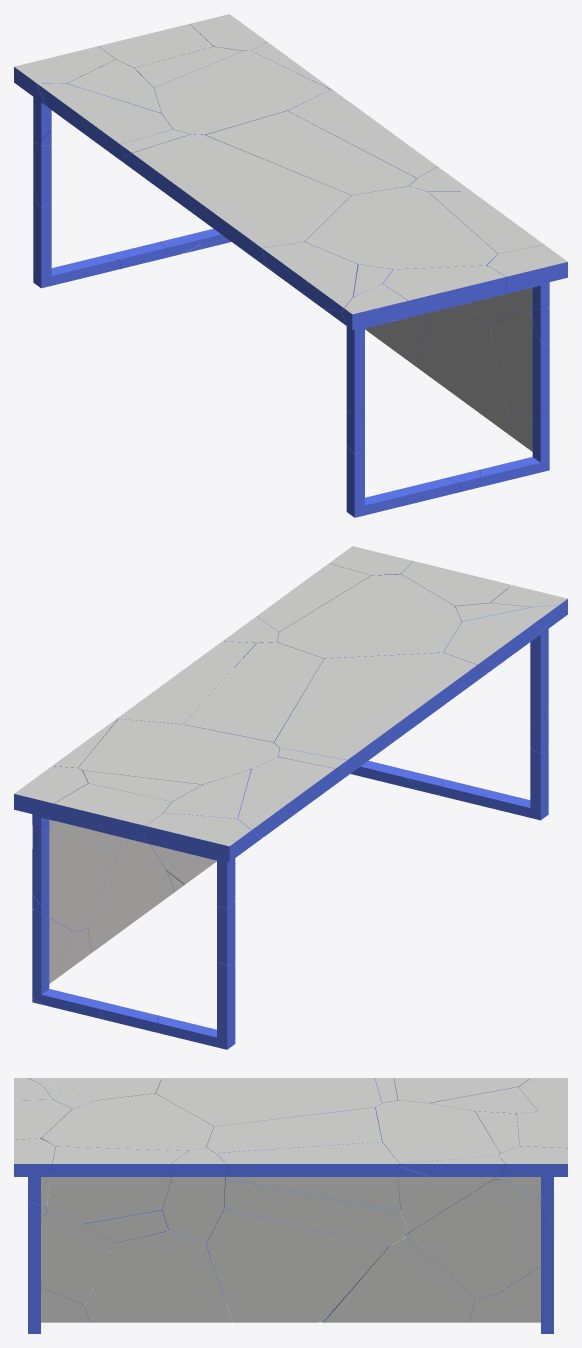
File: table fractured.fbx
3 views of the same model, one above another, from view 1: azimuth 30°, elevation 25°; view 2: azimuth 150°, elevation 25°; view 3: azimuth 270°, elevation 25° (orthographic). The views are drawn at different scales.
Parts seen in each view (by area): view 1: Cube.005_cell.022, Cube.005_cell.037, Cube.005_cell.012, Cube.005_cell, Cube.005_cell.034, Cube.005_cell.038, Cube.005_cell.035, Cube.005_cell.005, Cube.005_cell.009, Cube.005_cell.018, Cube.005_cell.039, Cube.005_cell.019 (+19 smaller); view 2: Cube.005_cell.022, Cube.005_cell.037, Cube.005_cell.012, Cube.005_cell, Cube.005_cell.016, Cube.005_cell.025, Cube.005_cell.038, Cube.005_cell.039, Cube.005_cell.005, Cube.005_cell.031, Cube.005_cell.009, Cube.005_cell.004 (+19 smaller); view 3: Cube.005_cell.046, Cube.005_cell.016, Cube.005_cell.034, Cube.005_cell.022, Cube.005_cell.025, Cube.005_cell.037, Cube.005_cell.002, Cube.005_cell.012, Cube.005_cell.035, Cube.005_cell, Cube.005_cell.005, Cube.005_cell.011 (+24 smaller).
Boxes of the visible parts, <box> form: Cube.005_cell.022: <box>124,134,351,265</box>; Cube.005_cell.037: <box>305,186,497,269</box>; Cube.005_cell.012: <box>154,50,330,134</box>; Cube.005_cell: <box>205,111,416,195</box>; Cube.005_cell.034: <box>418,303,507,432</box>; Cube.005_cell.038: <box>36,83,172,162</box>; Cube.005_cell.035: <box>489,311,549,416</box>; Cube.005_cell.005: <box>288,89,437,178</box>; Cube.005_cell.009: <box>262,242,357,311</box>; Cube.005_cell.018: <box>383,265,506,313</box>; Cube.005_cell.039: <box>14,46,115,144</box>; Cube.005_cell.019: <box>487,245,567,309</box>; Cube.005_cell.022: <box>274,652,480,781</box>; Cube.005_cell.037: <box>277,574,461,658</box>; Cube.005_cell.012: <box>78,719,279,784</box>; Cube.005_cell: <box>183,642,323,742</box>; Cube.005_cell.016: <box>32,821,122,931</box>; Cube.005_cell.025: <box>88,838,174,952</box>; Cube.005_cell.038: <box>238,757,339,837</box>; Cube.005_cell.039: <box>144,813,260,908</box>; Cube.005_cell.005: <box>117,641,255,724</box>; Cube.005_cell.031: <box>49,783,171,840</box>; Cube.005_cell.009: <box>443,605,559,673</box>; Cube.005_cell.004: <box>32,909,109,1019</box>; Cube.005_cell.046: <box>206,1209,389,1322</box>; Cube.005_cell.016: <box>407,1179,553,1299</box>; Cube.005_cell.034: <box>85,1231,232,1322</box>; Cube.005_cell.022: <box>155,1078,381,1126</box>; Cube.005_cell.025: <box>324,1237,474,1322</box>; Cube.005_cell.037: <box>41,1093,213,1150</box>; Cube.005_cell.002: <box>224,1178,406,1246</box>; Cube.005_cell.012: <box>375,1100,500,1176</box>; Cube.005_cell.035: <box>28,1210,114,1304</box>; Cube.005_cell: <box>206,1107,382,1152</box>; Cube.005_cell.005: <box>216,1142,400,1176</box>; Cube.005_cell.011: <box>46,1177,171,1223</box>.
Size of the model in its own units: 147 by 138 by 400.
